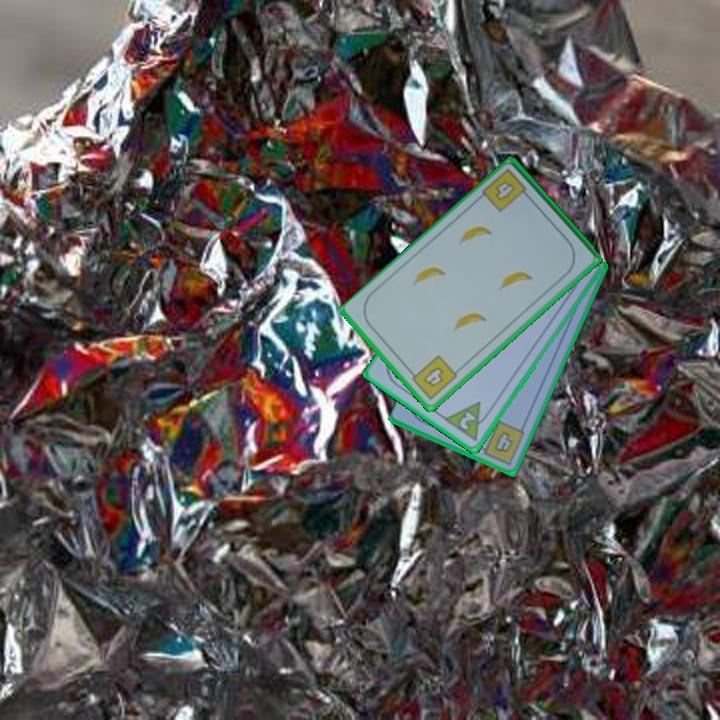2p: (456, 408, 479, 433)
4b: (405, 351, 460, 403), (474, 417, 528, 468), (479, 165, 534, 215)
